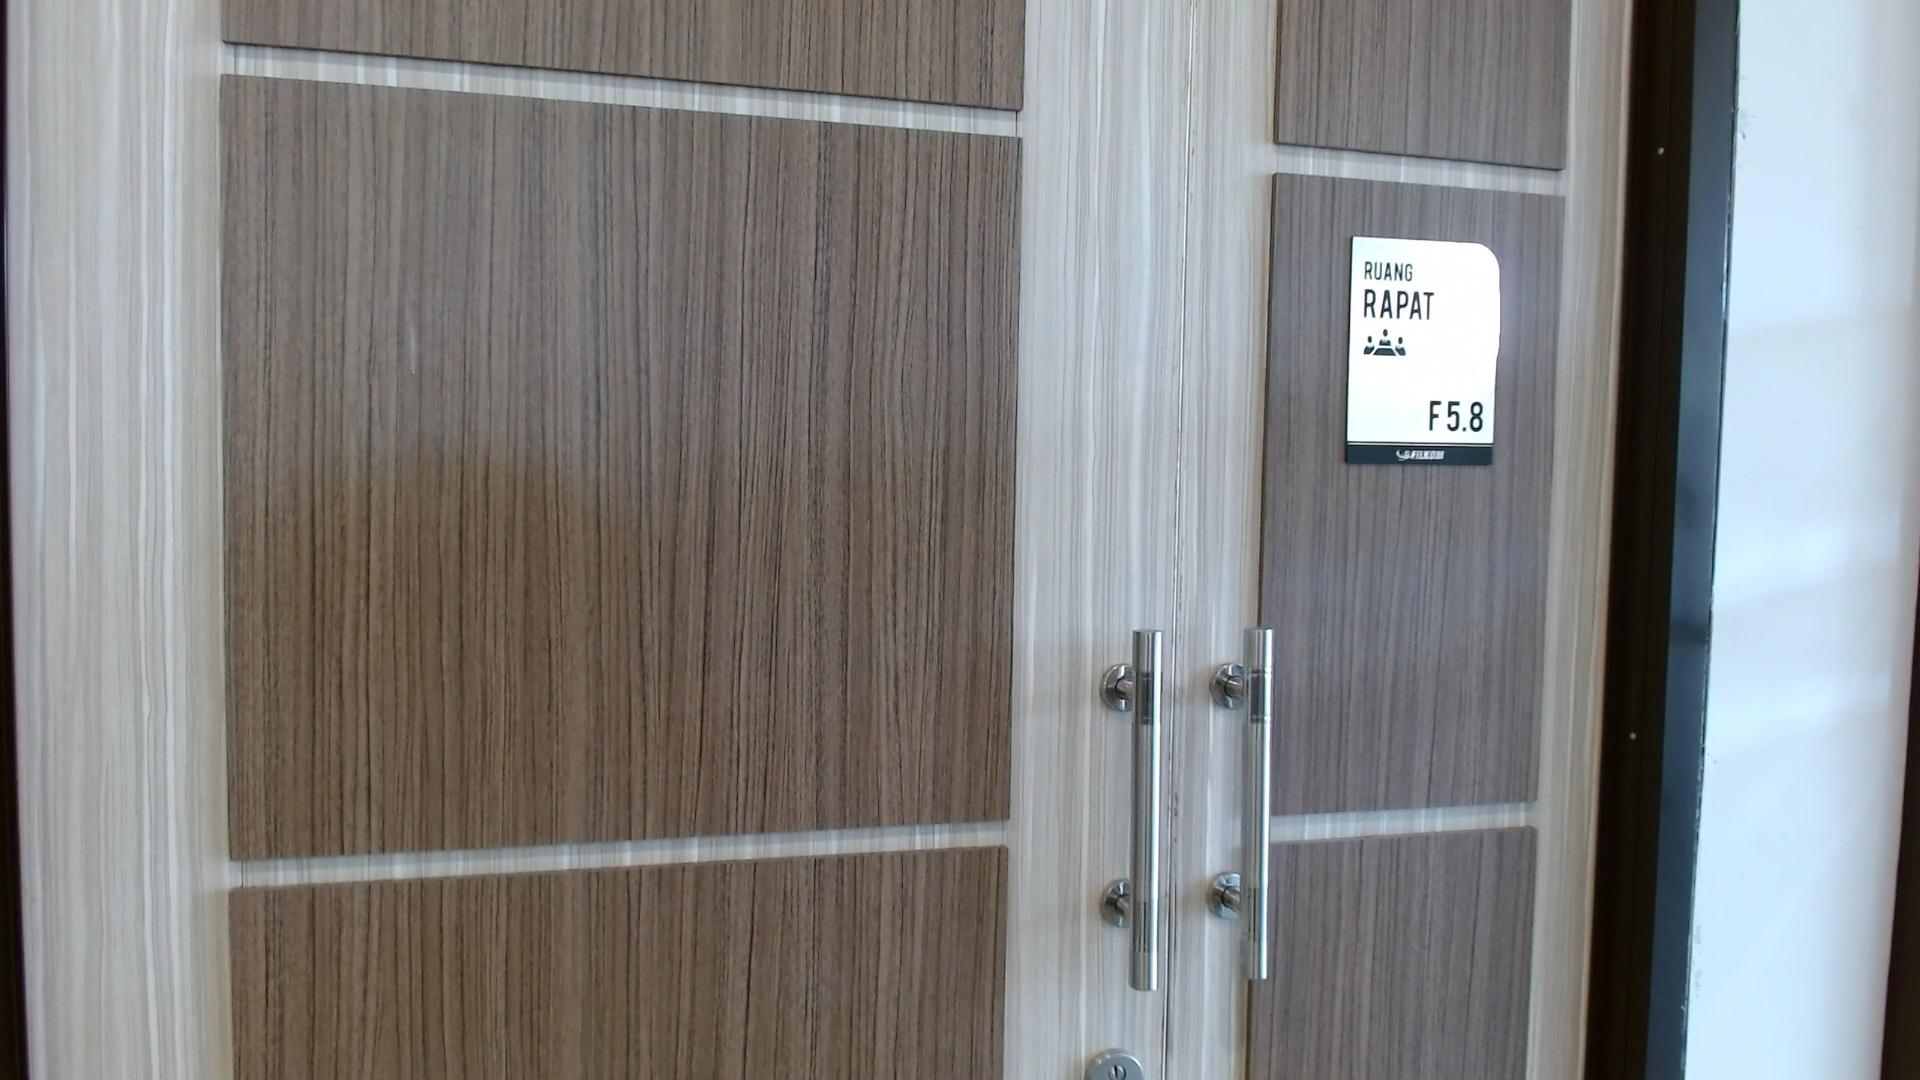plate: (1348, 236, 1502, 467)
